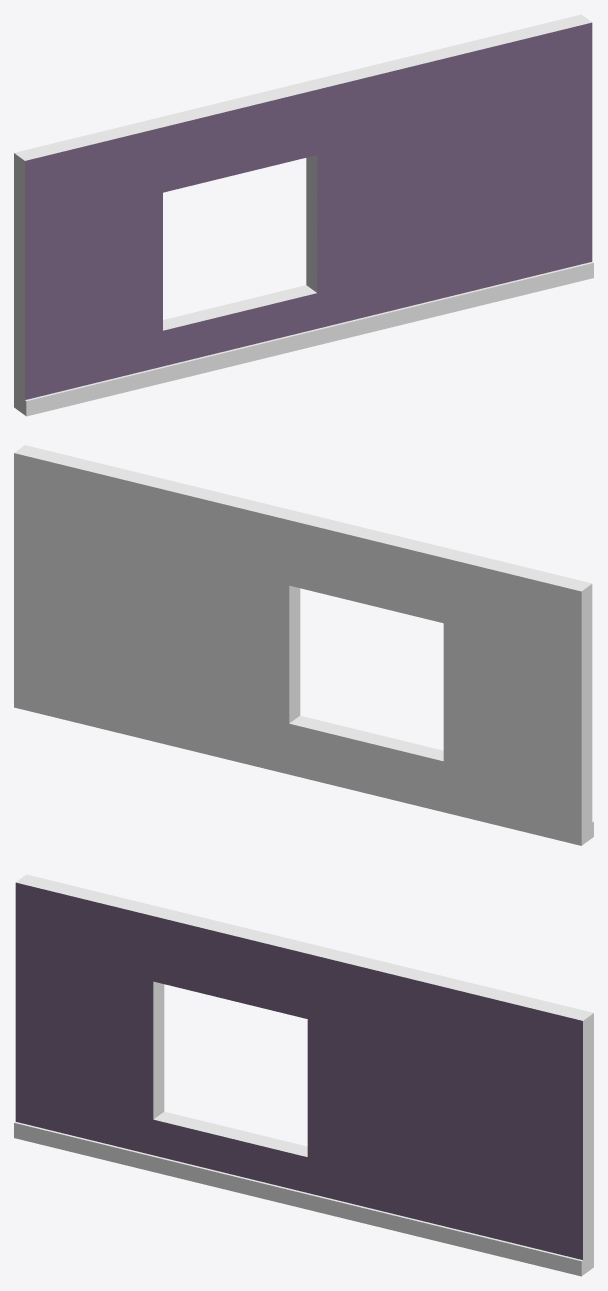
The model's file is Wall1.FBX.
3 renders of one model, top to bottom at view 1: azimuth 30°, elevation 25°; view 2: azimuth 150°, elevation 25°; view 3: azimuth 330°, elevation 25°, orthographic.
Visible parts, largest first — view 1: Wall1; view 2: Wall1; view 3: Wall1.
Part boxes in pixels (<box>): Wall1: <box>14,14,593,416</box>; Wall1: <box>14,445,593,845</box>; Wall1: <box>14,874,593,1276</box>.
Bounding box in the file's own units: 7165 × 273 × 3070.
